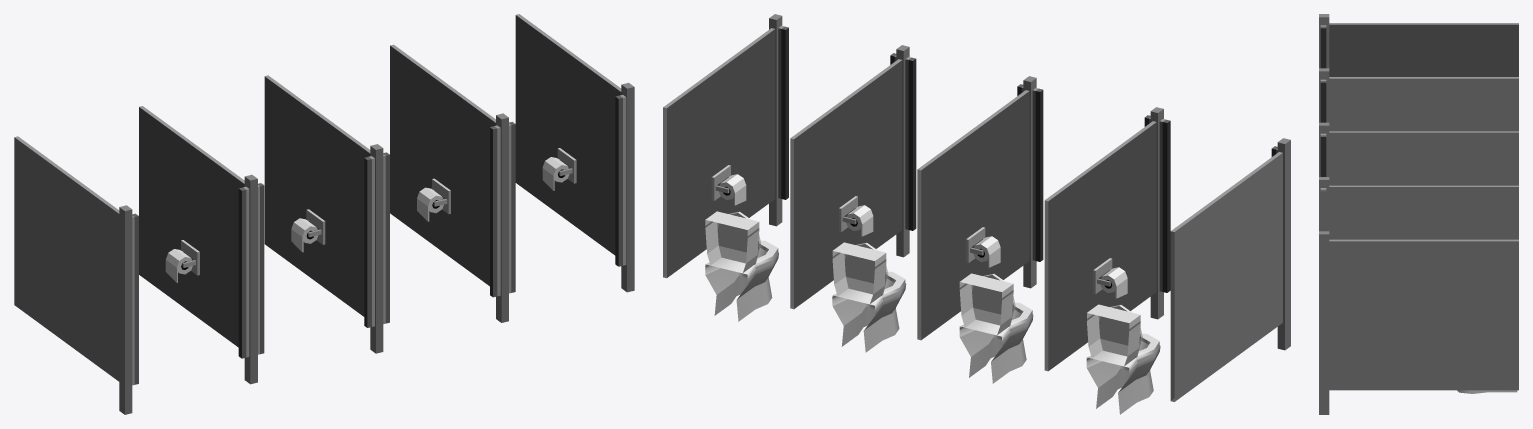
Rendered from ToiletStall2.FBX.
3 renders of one model, left to right at view 1: azimuth 30°, elevation 25°; view 2: azimuth 150°, elevation 25°; view 3: azimuth 270°, elevation 25°, orthographic. The views are drawn at different scales.
Parts seen in each view (by area): view 1: SM_ToiletStall_02; view 2: SM_ToiletStall_02; view 3: SM_ToiletStall_02.
Boxes of the visible parts, <box> form: SM_ToiletStall_02: <box>14,14,634,414</box>; SM_ToiletStall_02: <box>663,14,1290,414</box>; SM_ToiletStall_02: <box>1319,14,1518,414</box>.
Size of the model in its own units: 388 by 148 by 149.
